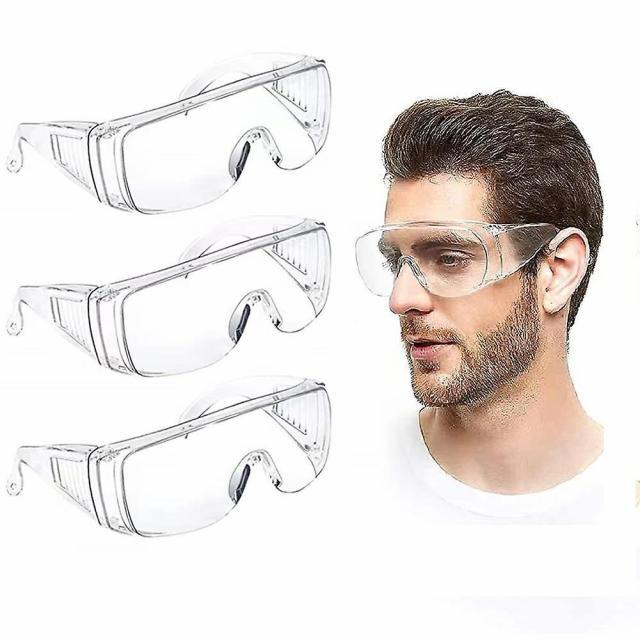Goggles: (1, 383, 380, 567), (5, 47, 365, 220), (1, 222, 350, 380), (357, 219, 548, 298)
